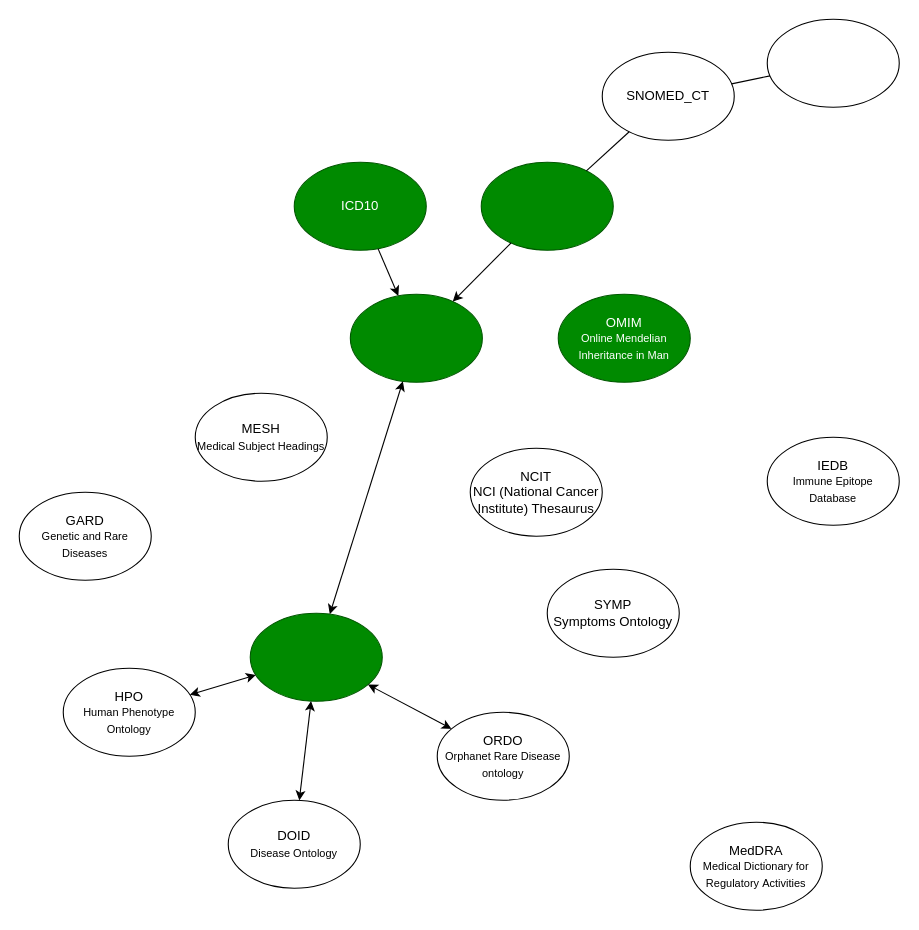
The diagram is 919 pixels wide and 930 high, and some of its shapes have lost their labels. Each missing label, with the centre of its shape:
"MONDO Mondo Disease Ontology" belongs at (x=315, y=656).
"SNOMED" belongs at (x=546, y=205).
"SNOMED_US" belongs at (x=832, y=62).
"UML S_CUI" belongs at (x=415, y=337).
